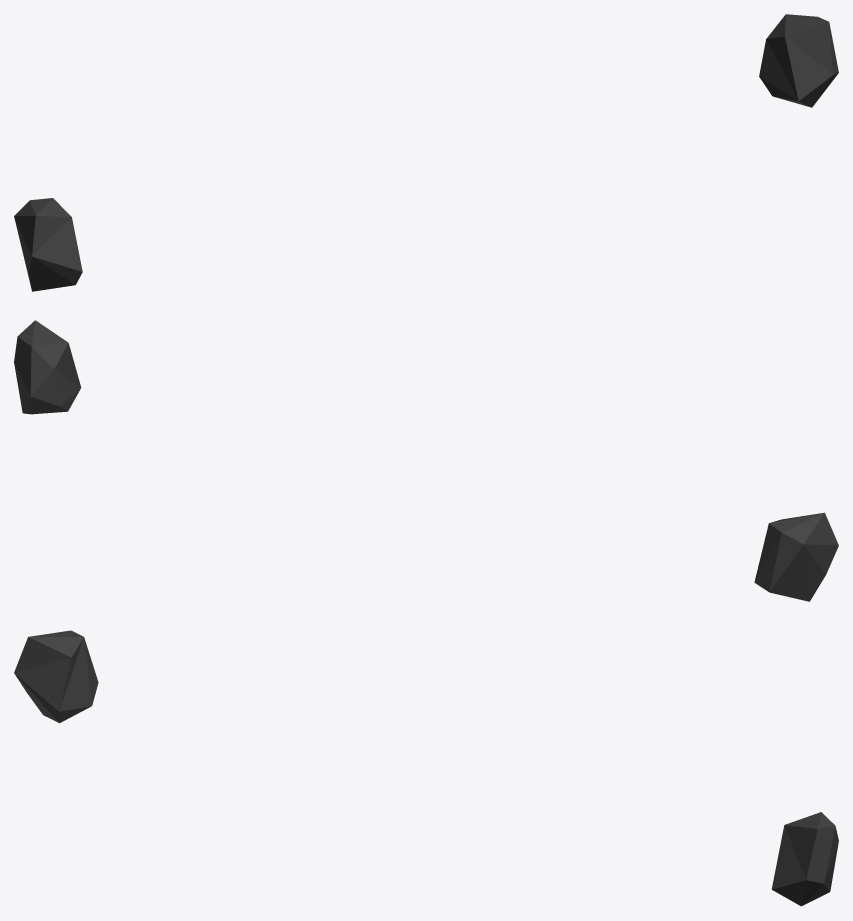
Rendered from Carpal_first.glb.
3 renders of one model, top to bottom at view 1: azimuth 30°, elevation 25°; view 2: azimuth 150°, elevation 25°; view 3: azimuth 330°, elevation 25°, orthographic.
Parts seen in each view (by area): view 1: Carpal_first; view 2: Carpal_first; view 3: Carpal_first.
Part boxes in pixels (x1,y1,x2,y2): Carpal_first: [14, 14, 838, 291]; Carpal_first: [14, 320, 838, 601]; Carpal_first: [14, 630, 838, 906].
Size of the model in its own units: 0.00256 by 0.000255 by 0.000225.
Materials: 1 (1 with a texture image).
